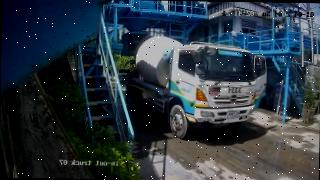cement_mixer_truck: (127, 36, 266, 138)
